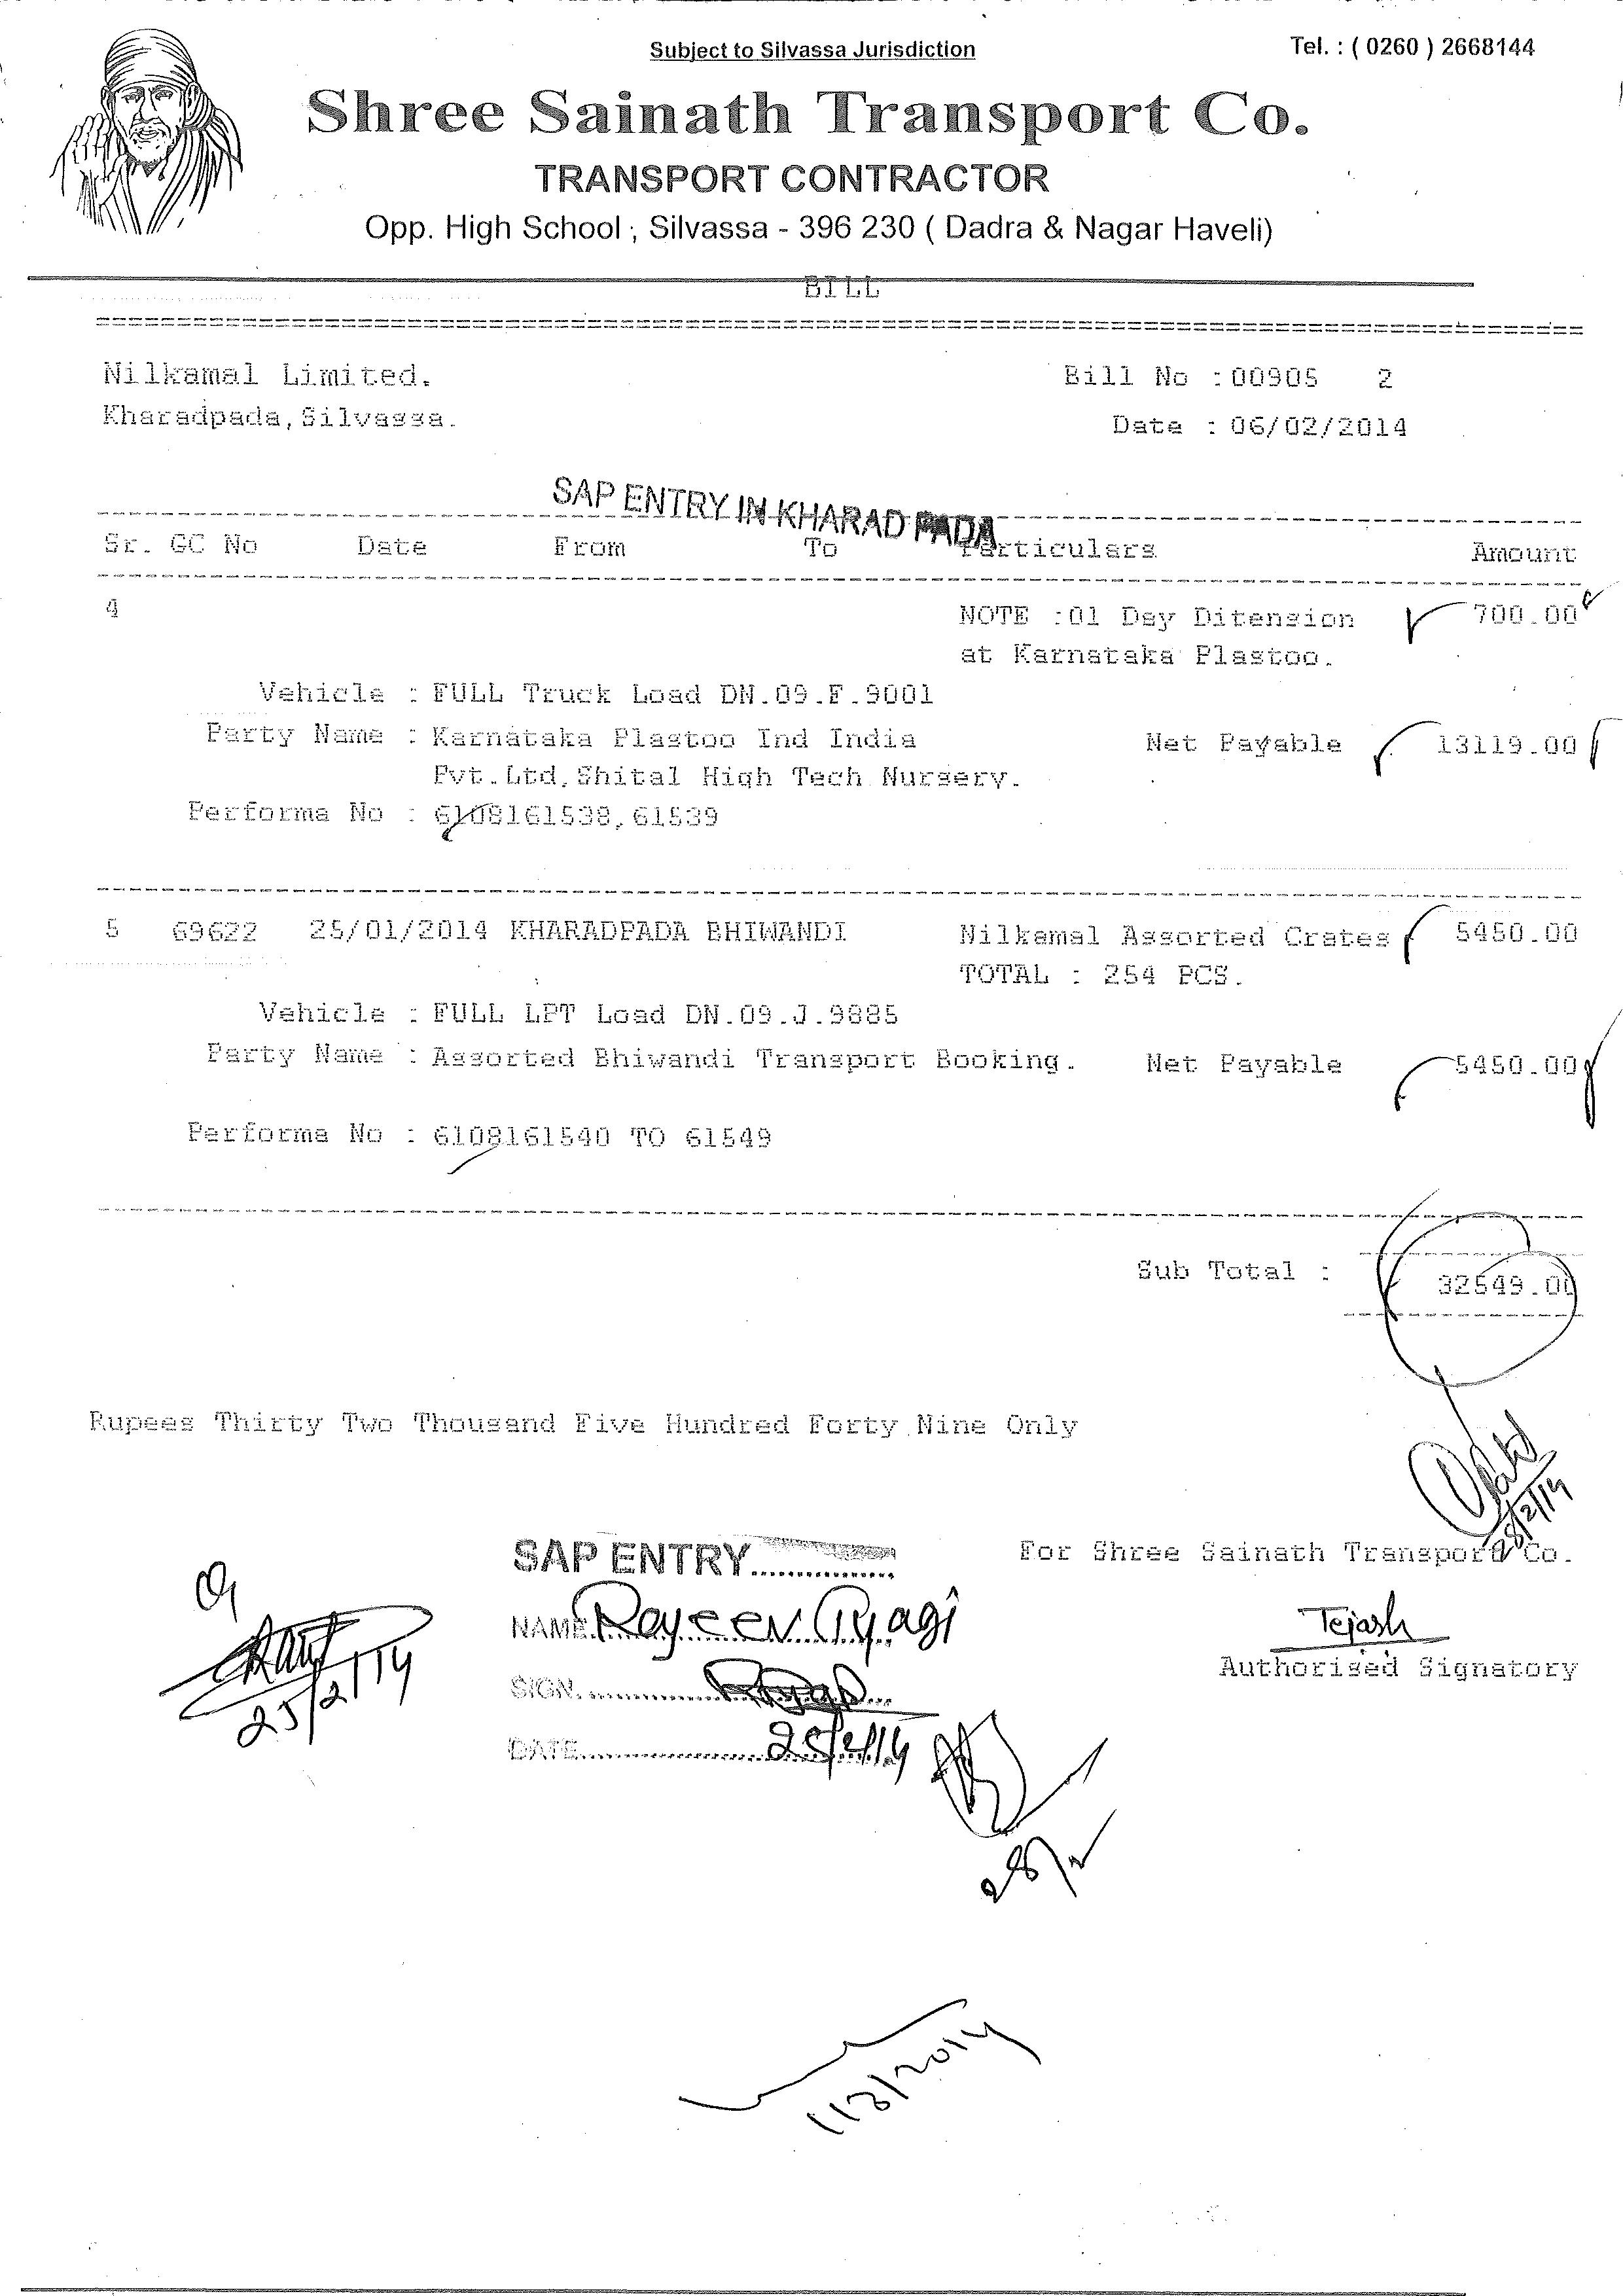B_Paragraph: (79, 1400, 1087, 1460), (1050, 343, 1440, 457), (362, 207, 1284, 255), (998, 1520, 1569, 1592), (100, 339, 465, 443), (490, 1597, 652, 1774), (1201, 1637, 1579, 1697), (652, 32, 989, 69), (1284, 21, 1554, 67)
B_SubTitle: (499, 1514, 769, 1597), (529, 162, 1061, 202), (548, 466, 727, 525)
B_Table: (79, 508, 1591, 1321)
B_Title: (306, 88, 1319, 160), (783, 260, 908, 313)
